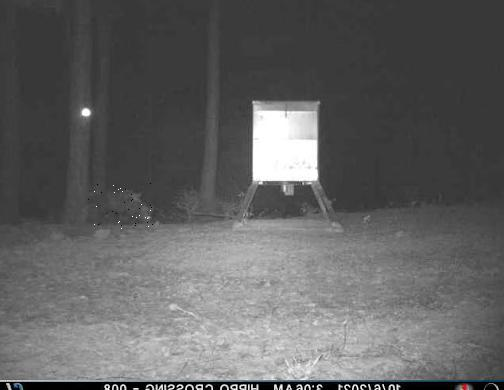Hog: (87, 183, 154, 230)
